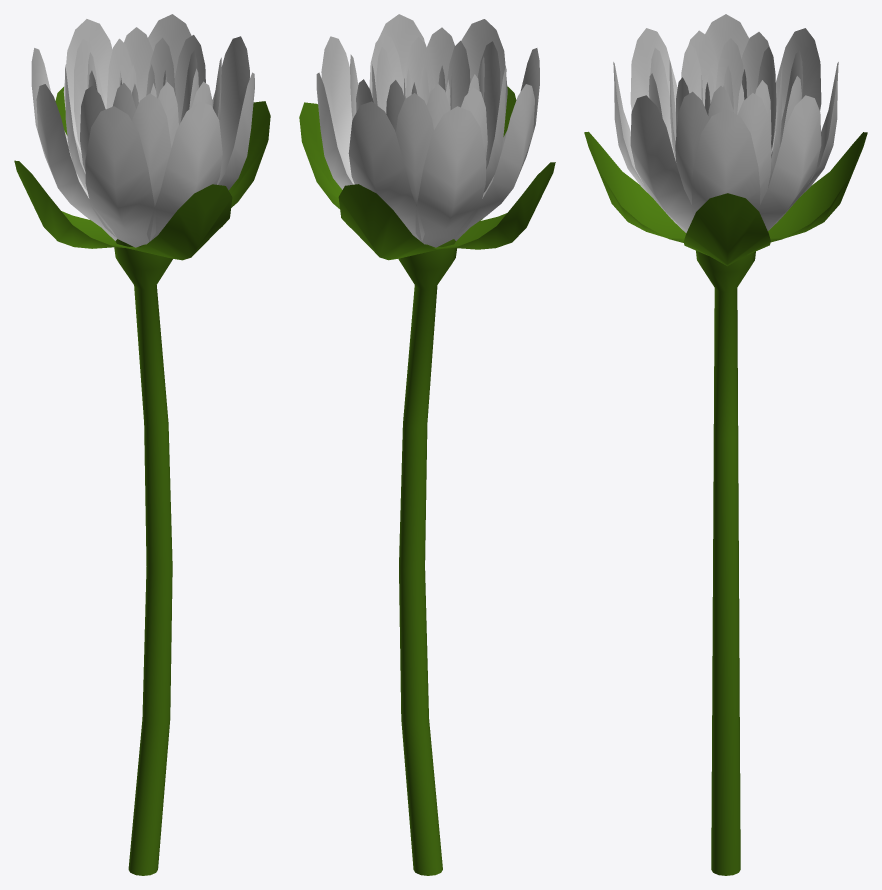
The model's file is FlowerLilyStandingWhite.fbx.
3 views of the same model, side by side, from view 1: azimuth 30°, elevation 25°; view 2: azimuth 150°, elevation 25°; view 3: azimuth 270°, elevation 25° (orthographic).
Visible parts, largest first — view 1: Plane.028, Plane.027; view 2: Plane.028, Plane.027; view 3: Plane.028, Plane.027.
Part boxes in pixels (x1,y1,x2,y2): Plane.028: [31, 14, 254, 247]; Plane.027: [14, 87, 270, 875]; Plane.028: [316, 14, 539, 247]; Plane.027: [299, 86, 555, 875]; Plane.028: [613, 14, 838, 232]; Plane.027: [584, 131, 867, 875].
Bounding box in the file's own units: 114 × 359 × 114.
